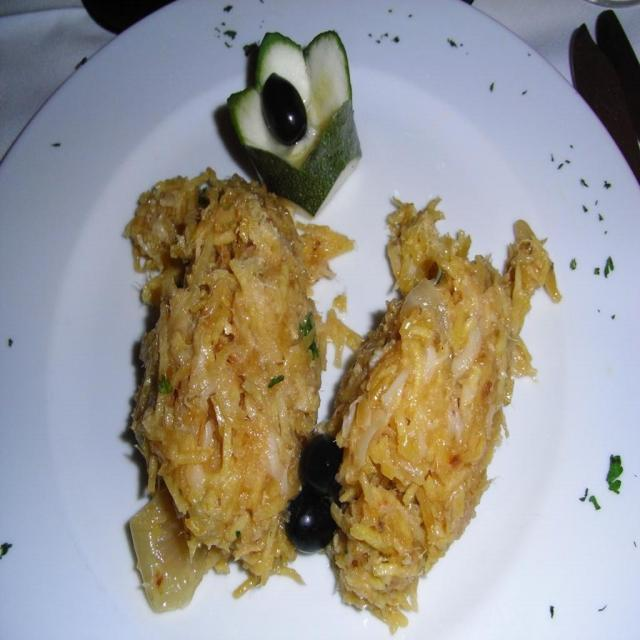Zucchini: (179, 20, 383, 234)
